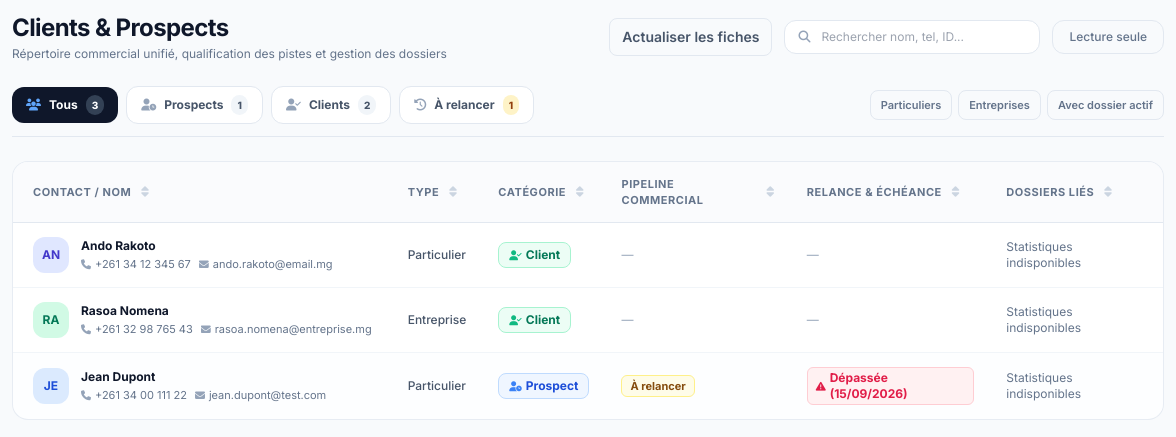
Scenario: CustomersPage › 13. filtre les contacts dans longlet À relancer
expect the text "Ando Rakoto" is shown: met, box [81,238,156,254]
Click the button "À relancer 1".
click(467, 105)  # box [399,86,534,124]
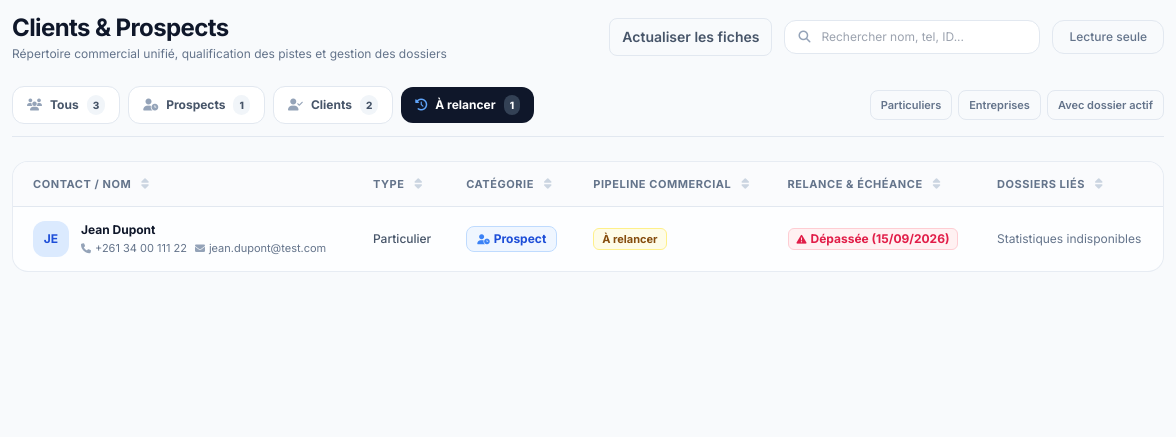
expect the text "Jean Dupont" is shown: met, box [81,222,156,238]
expect the button "Ando Rakoto" is gone: met
